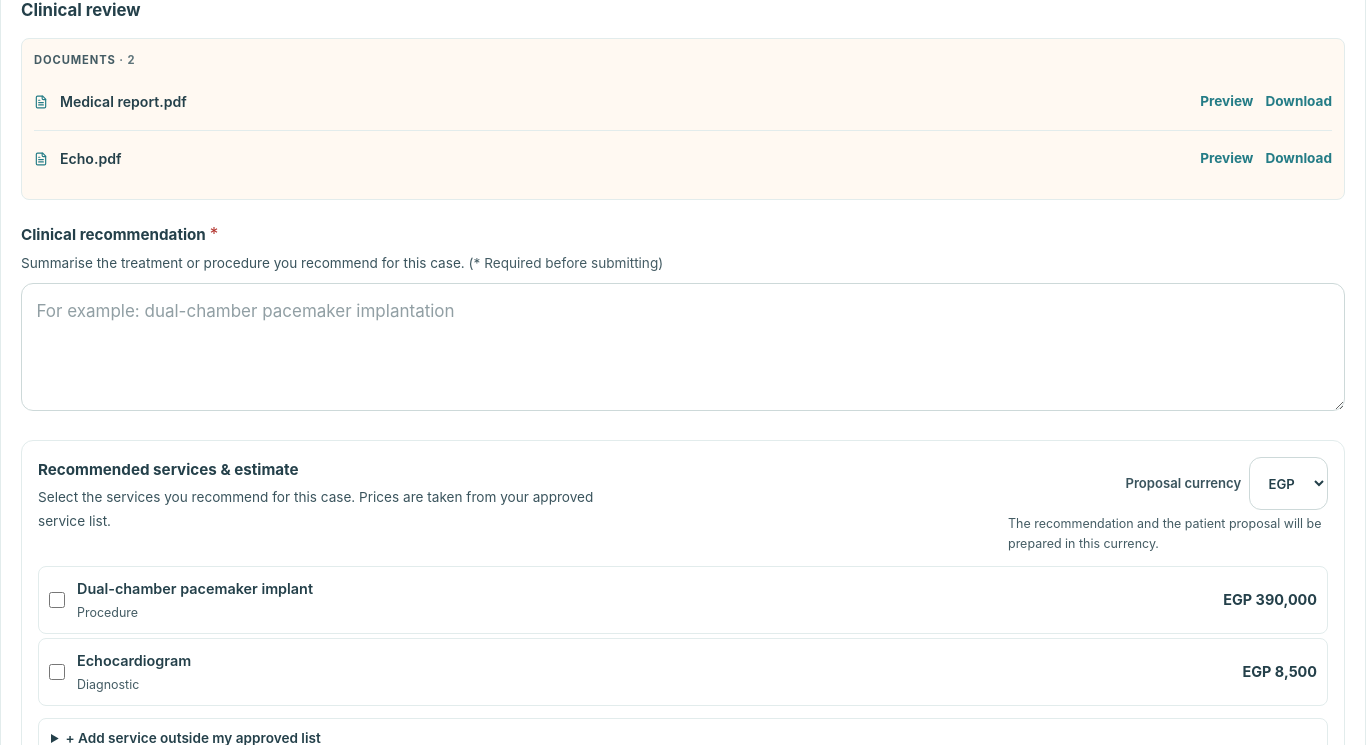
ClinicalReviewPanel › summarises the recommendation before it is submitted
Type "Pacemaker implantation" into the text box labelled "Clinical recommendation". click: (683, 347)
box: 21,283 -> 1345,411
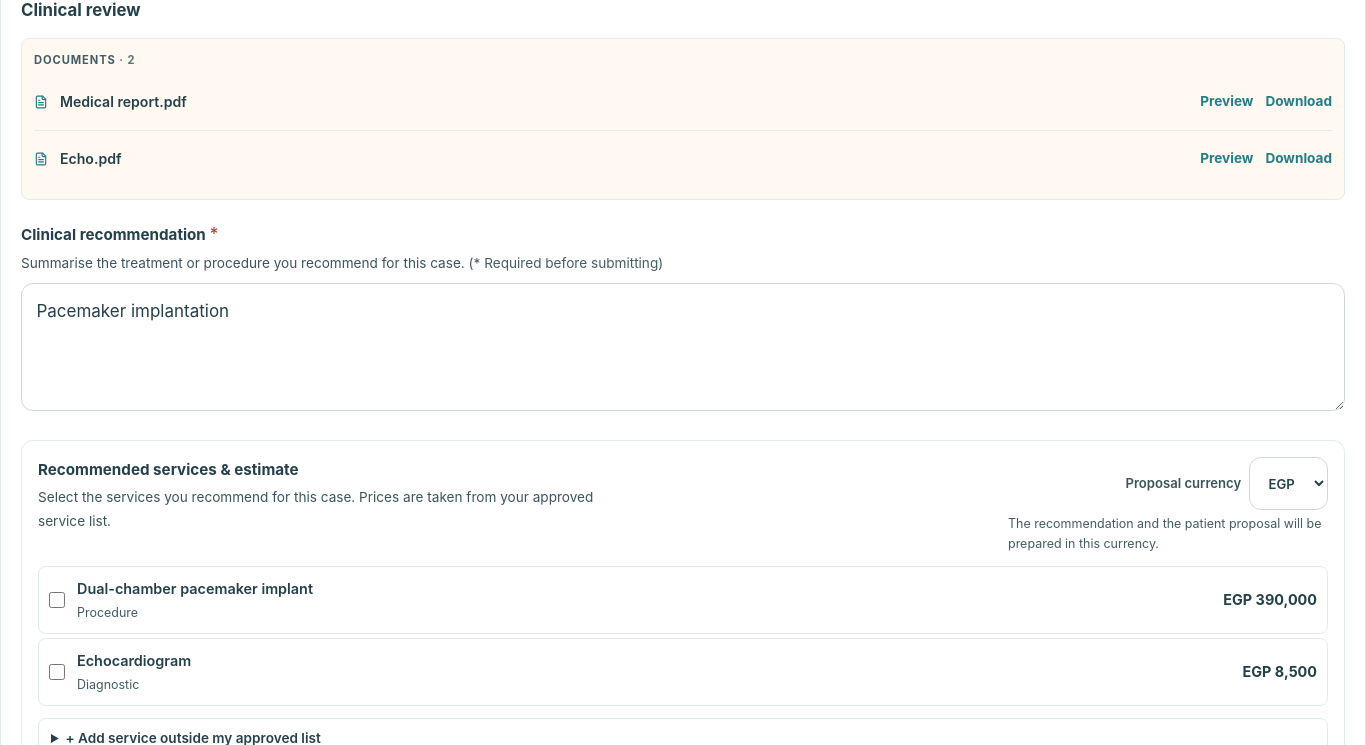
Click the checkbox labelled "Dual-chamber pacemaker implant Procedure EGP 390,000". click: (57, 600)
box: 49,592 -> 65,608
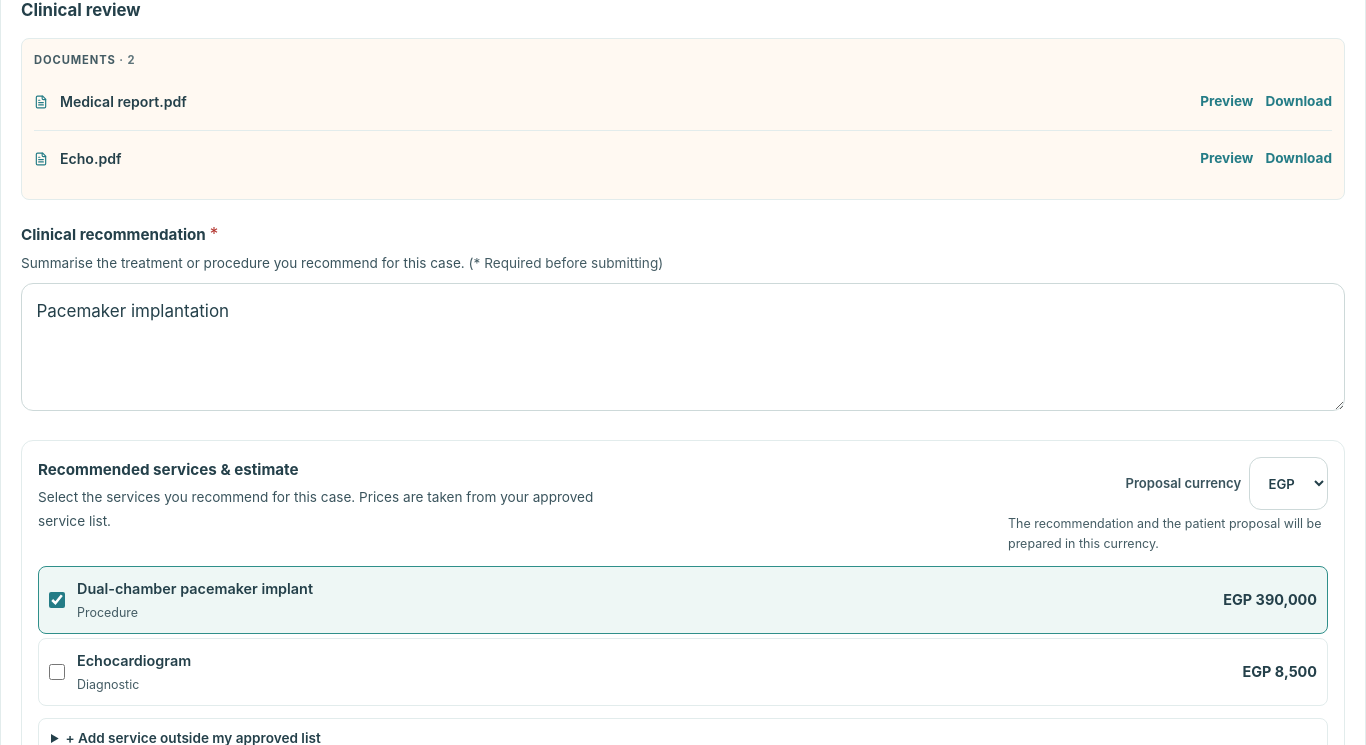
Click the checkbox labelled "Echocardiogram Diagnostic EGP 8,500". click: (57, 672)
box: 49,664 -> 65,680
(page scrolled)
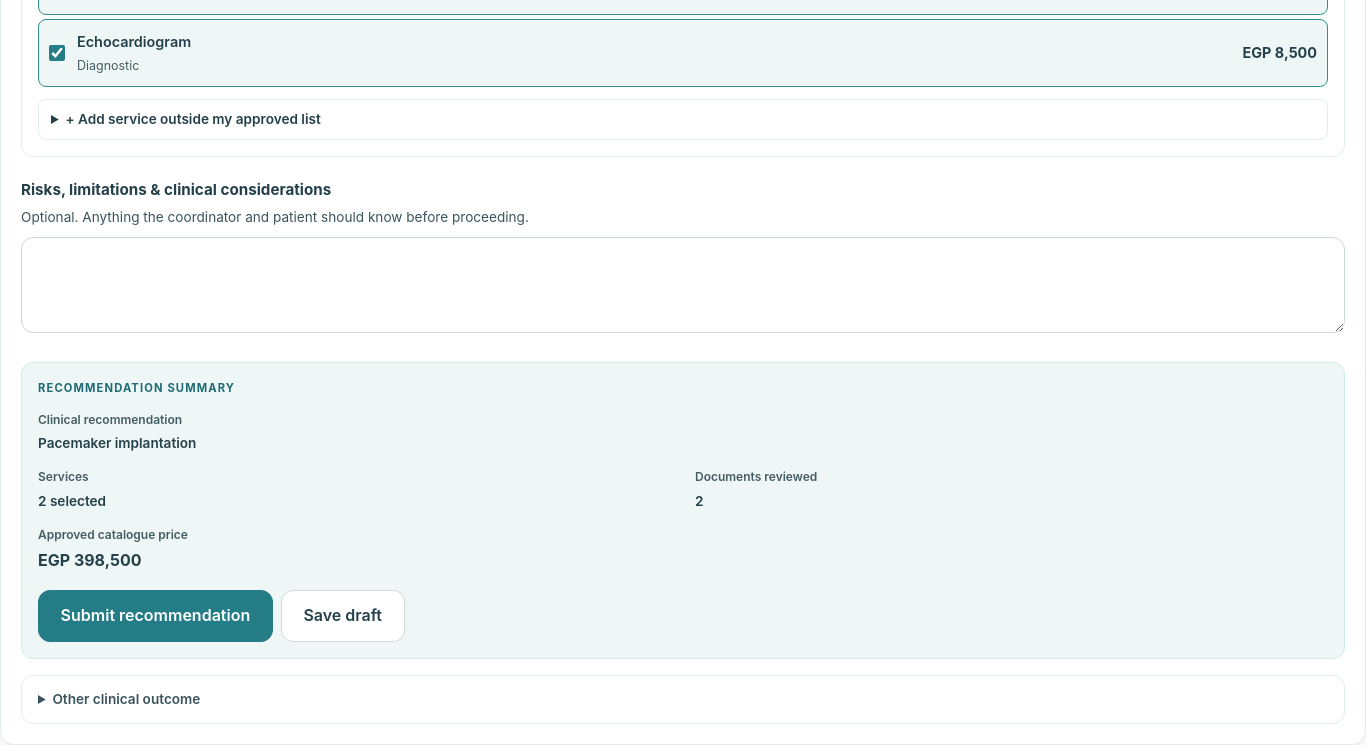
Expected: the text "2" is shown, 695,493 -> 704,509
Expected: the text "2 selected" is shown, 38,493 -> 106,509
Expected: the text "EGP 398,500" is shown, 38,550 -> 142,570
